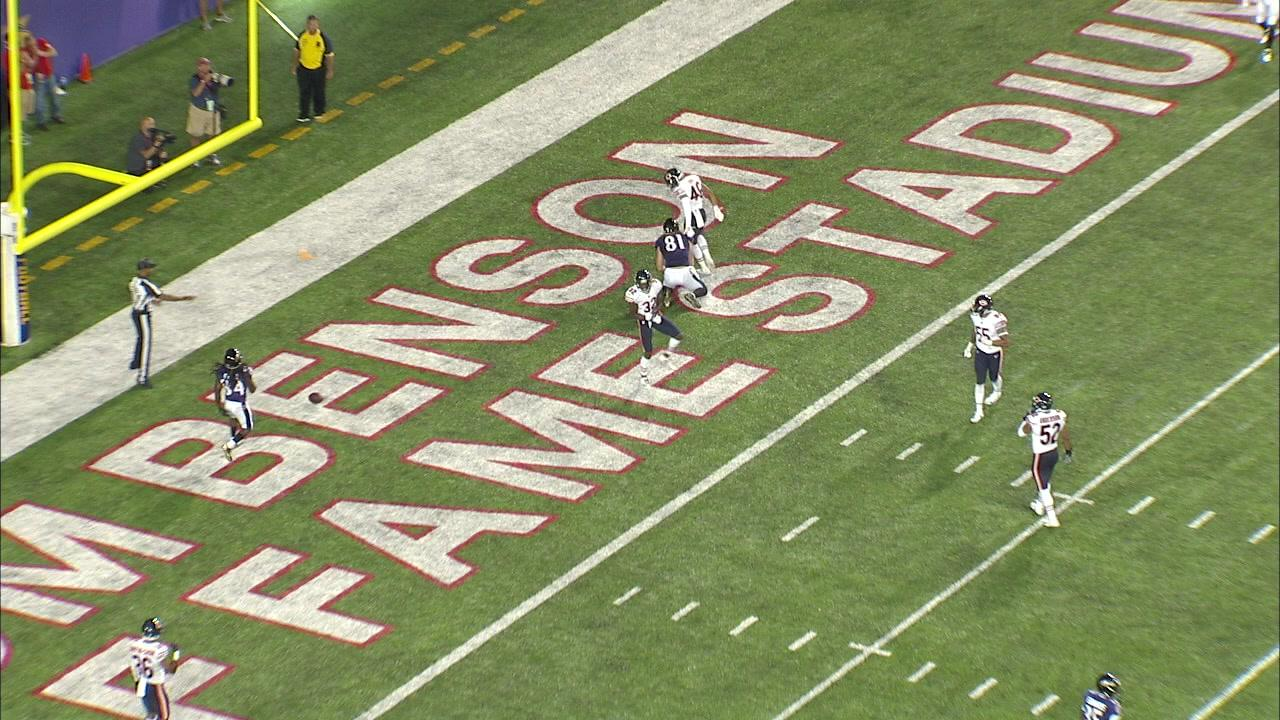five_hash: (847, 637, 895, 661), (1051, 486, 1097, 509)
hash: (962, 672, 1002, 704), (782, 623, 821, 655), (726, 609, 762, 641), (891, 435, 927, 467), (906, 655, 938, 690), (1123, 490, 1158, 521), (668, 596, 703, 624), (1029, 690, 1064, 718), (1183, 507, 1217, 535), (1247, 520, 1276, 549), (838, 423, 869, 449), (612, 584, 643, 608), (951, 451, 981, 474)
